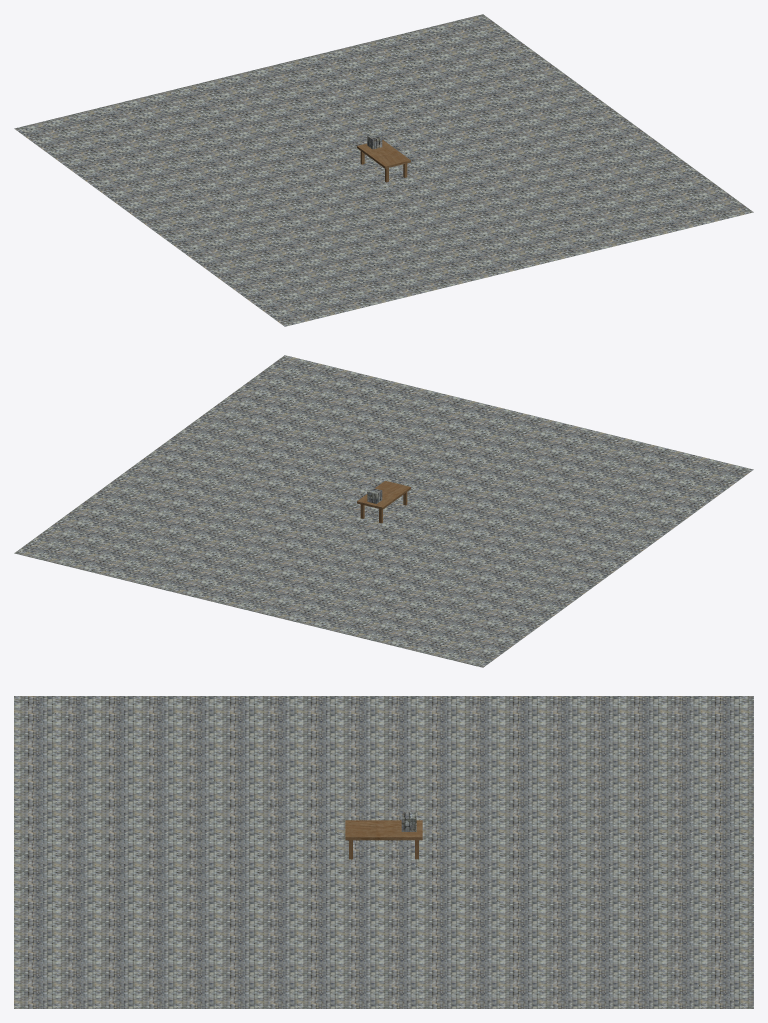
The picture shows the model from 3 angles, top to bottom: view 1: azimuth 30°, elevation 25°; view 2: azimuth 150°, elevation 25°; view 3: azimuth 270°, elevation 25°; orthographic projection. The views are drawn at different scales.
Visible parts, largest first — view 1: Plane, Table_Cube; view 2: Plane, Table_Cube; view 3: Plane, Table_Cube.
Boxes of the visible parts, left/top/right/bottom form: Plane: left=14, top=14, right=753, bottom=326; Table_Cube: left=357, top=139, right=410, bottom=182; Plane: left=14, top=355, right=753, bottom=667; Table_Cube: left=357, top=480, right=410, bottom=523; Plane: left=14, top=696, right=753, bottom=1008; Table_Cube: left=345, top=820, right=422, bottom=859.
Size of the model in its own units: 99.63 by 5.5 by 99.63.
